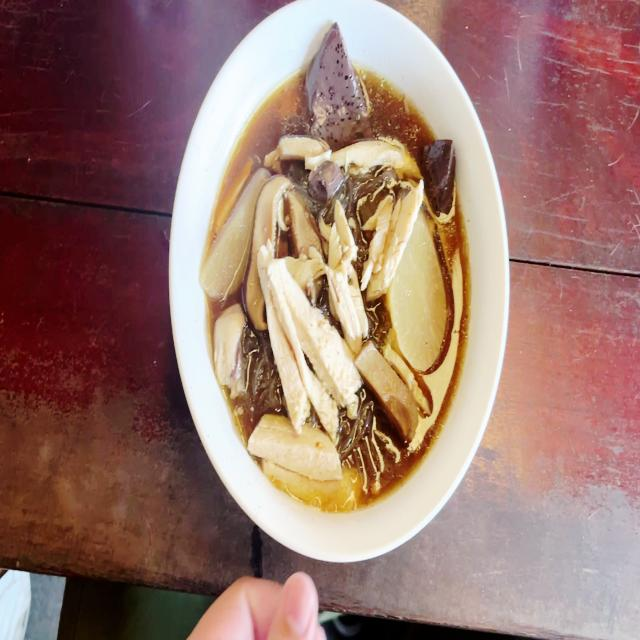boiled_chicken_blood_jelly: (306, 23, 374, 135), (425, 137, 457, 213), (310, 163, 339, 198)
chicken_shredded: (260, 248, 364, 507), (277, 128, 413, 170), (369, 188, 408, 289)
daikon_radish: (196, 175, 252, 289), (398, 237, 441, 357)
noodle: (206, 24, 469, 509)
